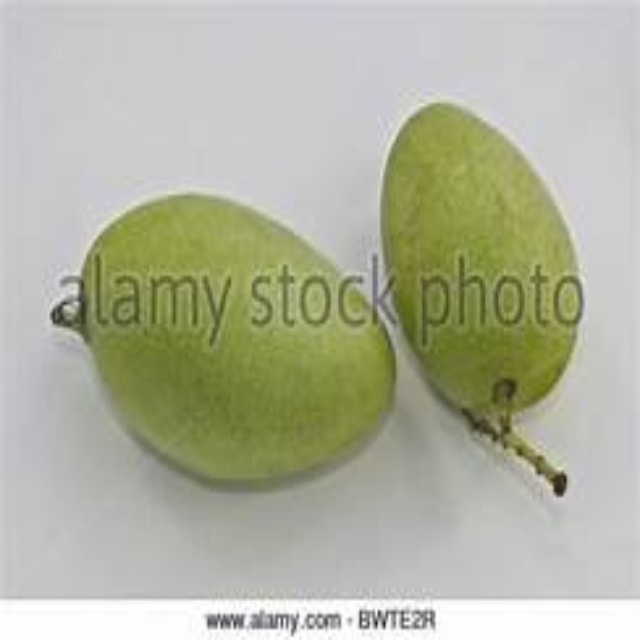mango: (47, 198, 400, 482), (373, 100, 577, 496)
